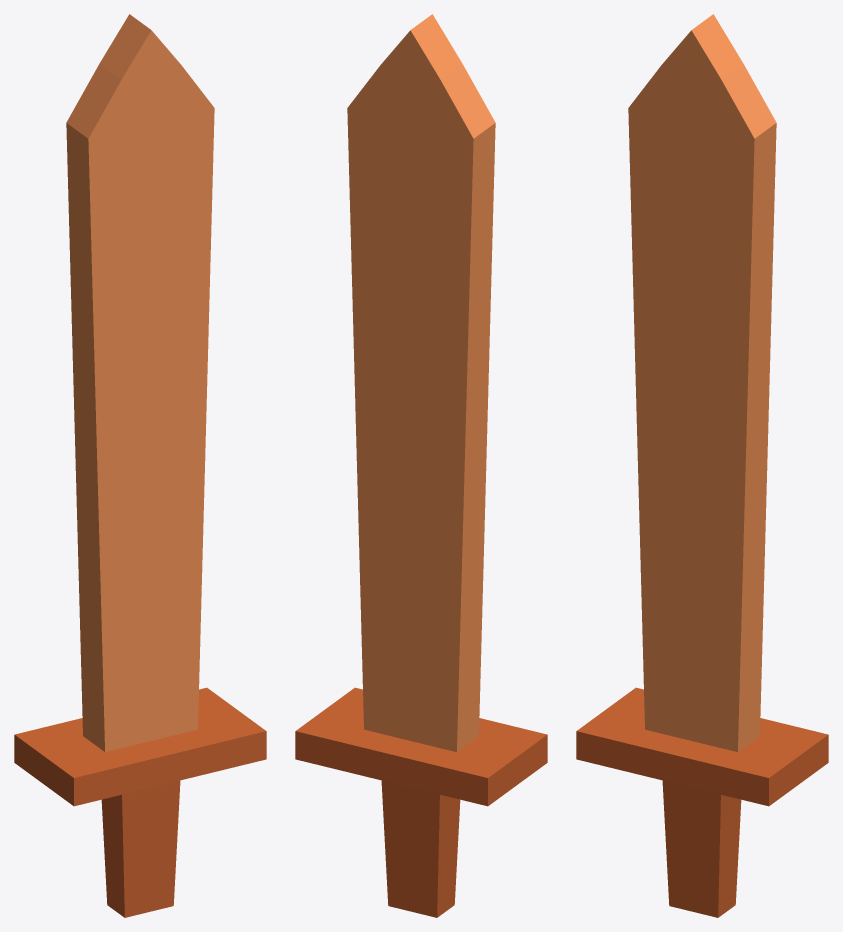
The model's file is WoodenSword.fbx.
The picture shows the model from 3 angles, left to right: view 1: azimuth 30°, elevation 25°; view 2: azimuth 150°, elevation 25°; view 3: azimuth 330°, elevation 25°; orthographic projection.
Parts seen in each view (by area): view 1: Cube; view 2: Cube; view 3: Cube.
Part boxes in pixels (left/top/right/bottom): Cube: left=14, top=14, right=266, bottom=917; Cube: left=295, top=14, right=547, bottom=917; Cube: left=576, top=14, right=828, bottom=917.
Bounding box in the file's own units: 360 × 1577 × 193.
